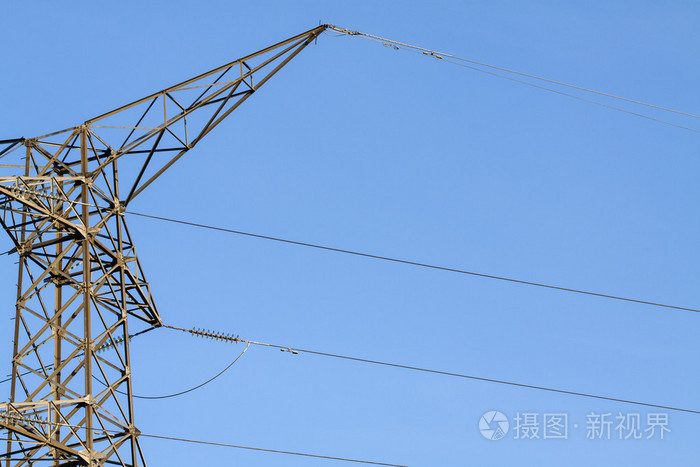insulator: (190, 327, 241, 345), (96, 335, 133, 352)
